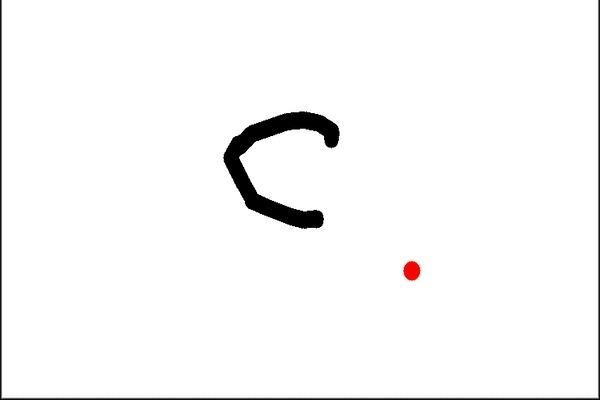C: (217, 103, 340, 230)
